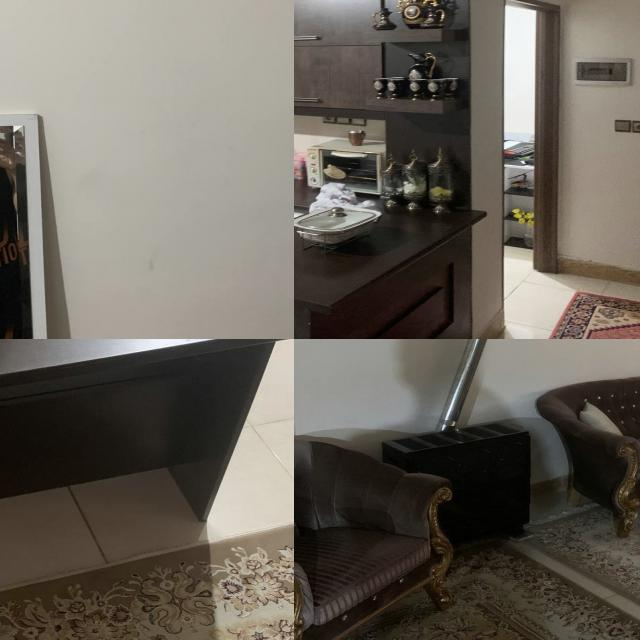Floor: (0, 339, 294, 593), (493, 249, 577, 339)
Wall: (502, 0, 541, 152)
